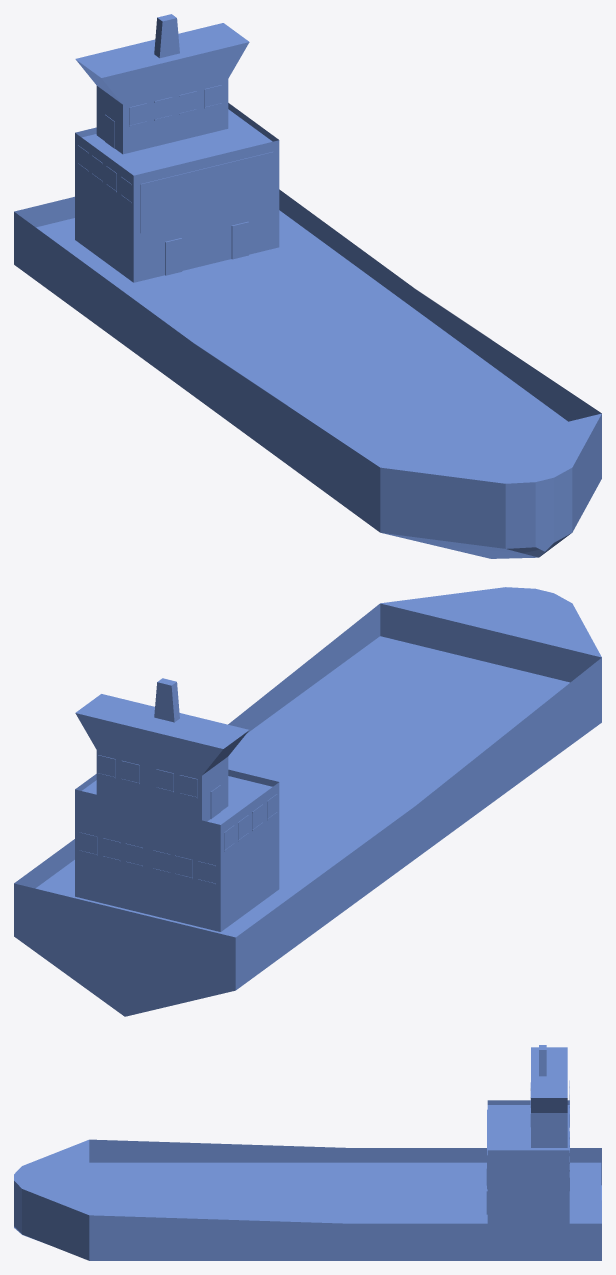
File: LowPoly_cargo_ship.fbx
3 renders of one model, top to bottom at view 1: azimuth 30°, elevation 25°; view 2: azimuth 150°, elevation 25°; view 3: azimuth 270°, elevation 25°, orthographic. The views are drawn at different scales.
Parts seen in each view (by area): view 1: Cube; view 2: Cube; view 3: Cube.
Part boxes in pixels (x1,y1,x2,y2): Cube: [14, 14, 601, 558]; Cube: [14, 587, 601, 1016]; Cube: [14, 1045, 601, 1260].
Bounding box in the file's own units: 2.56 × 3.36 × 8.41.
